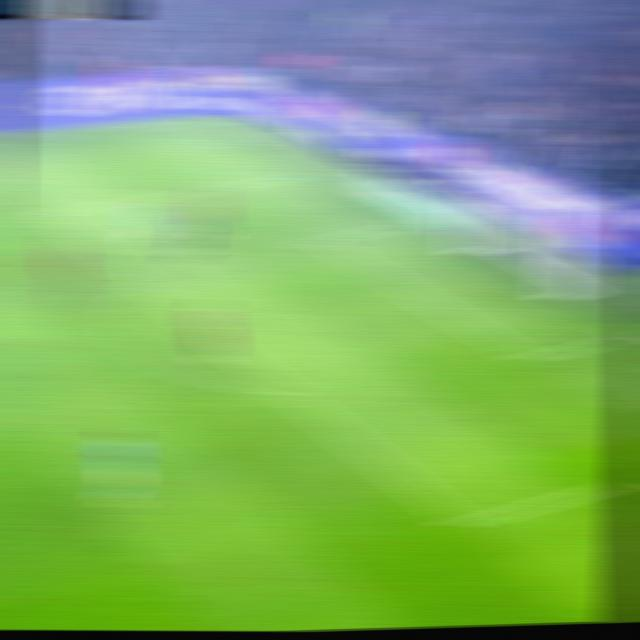bigarea_bottom_inner: (440, 507, 485, 539)
bigarea_top_inner: (26, 200, 67, 225)
bigarea_top_outter: (288, 164, 325, 182)
bottom_arc_area_intersection: (266, 378, 308, 403)
corner: (185, 112, 223, 129)
smallarea_bottom_inner: (506, 341, 552, 374)
smallarea_bottom_outter: (607, 322, 640, 347)
smallarea_top_inner: (302, 228, 341, 252)
smallarea_top_outter: (387, 214, 425, 235)
top_arc_area_intersection: (125, 273, 163, 296)
